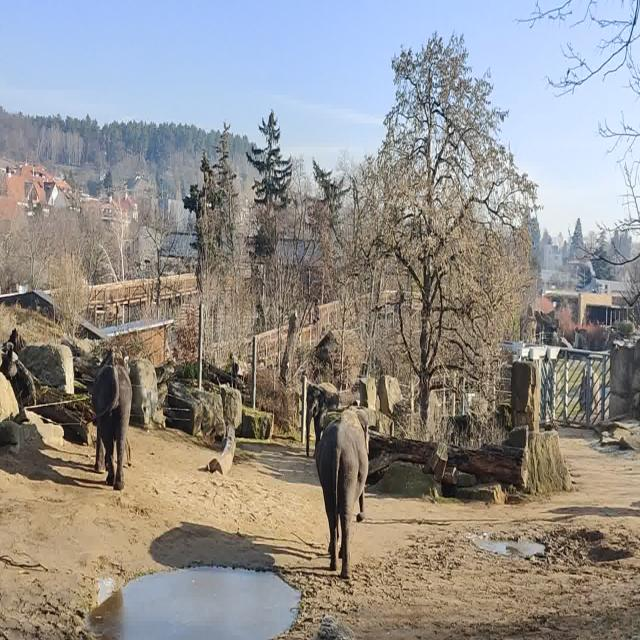elephant: (316, 406, 368, 580), (93, 346, 132, 491), (306, 382, 339, 458)
